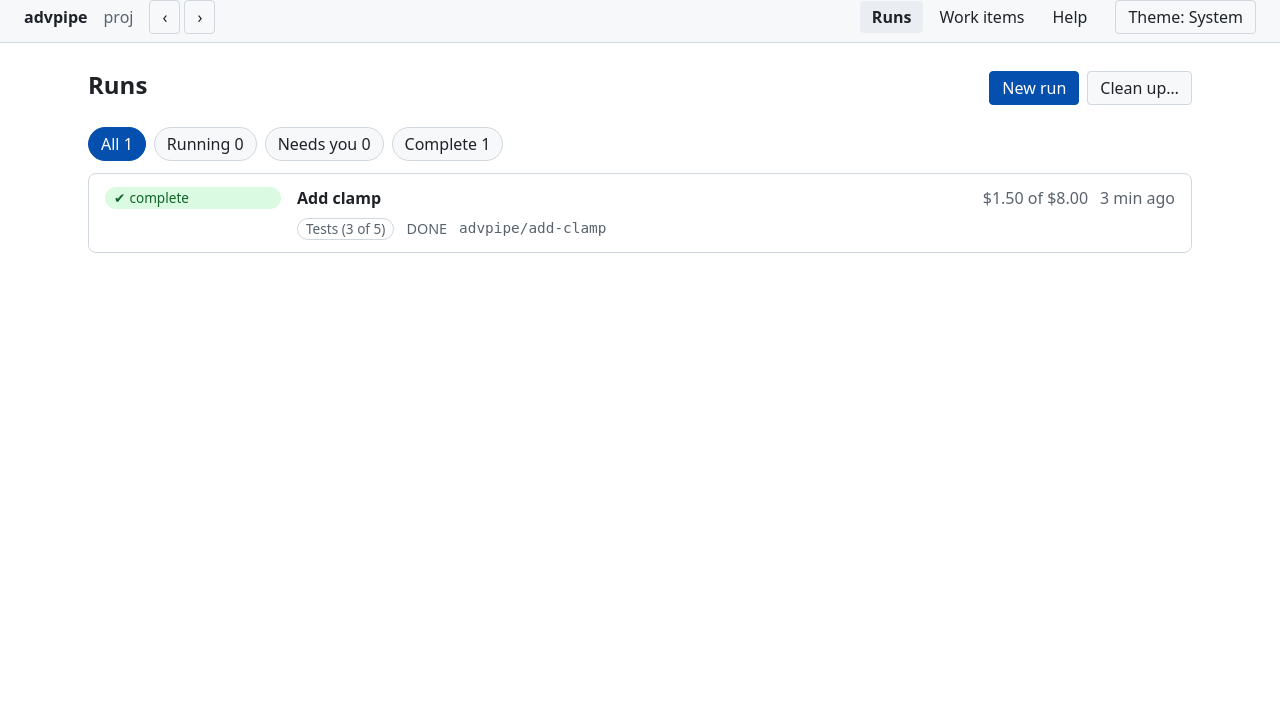
it: the answer form › shows question text as text and has no accessibility violations
Click the link that starts with "complete" at coordinates (193, 198), box [89,174,1191,252]
(page scrolled)
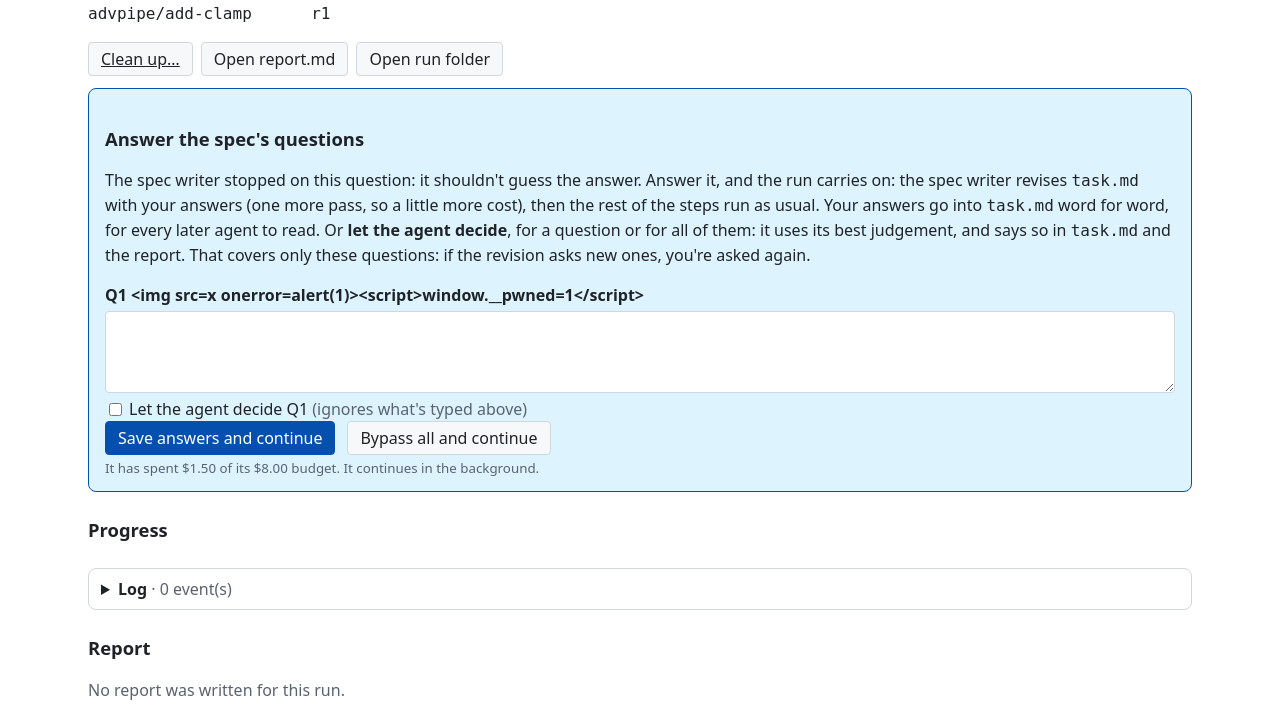
Check: the text box labelled "onerror" is shown, box [105,311,1175,393]
